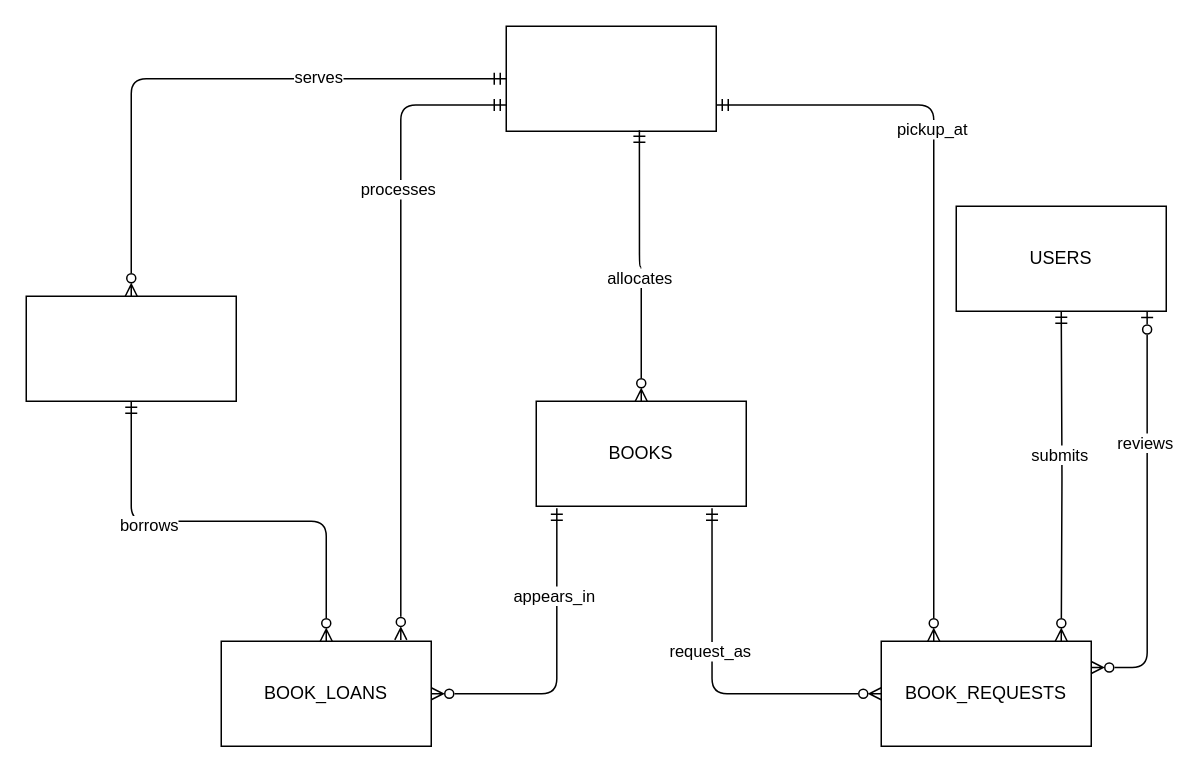
Image size: 1199x773. Some labels were removed from this diagram. The shapes that lost their labels are listed below. From the top down, each one's centre as x and y in pixels, then its label:
[610,78]: BRANCHES
[130,348]: MEMBERS
